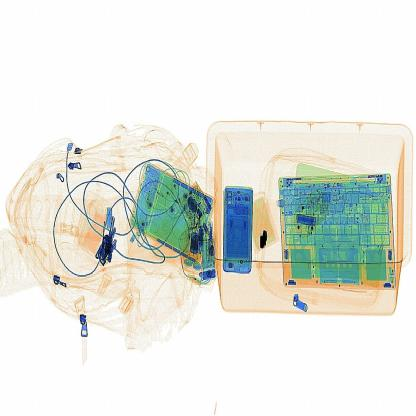knife: (252, 221, 280, 256)
